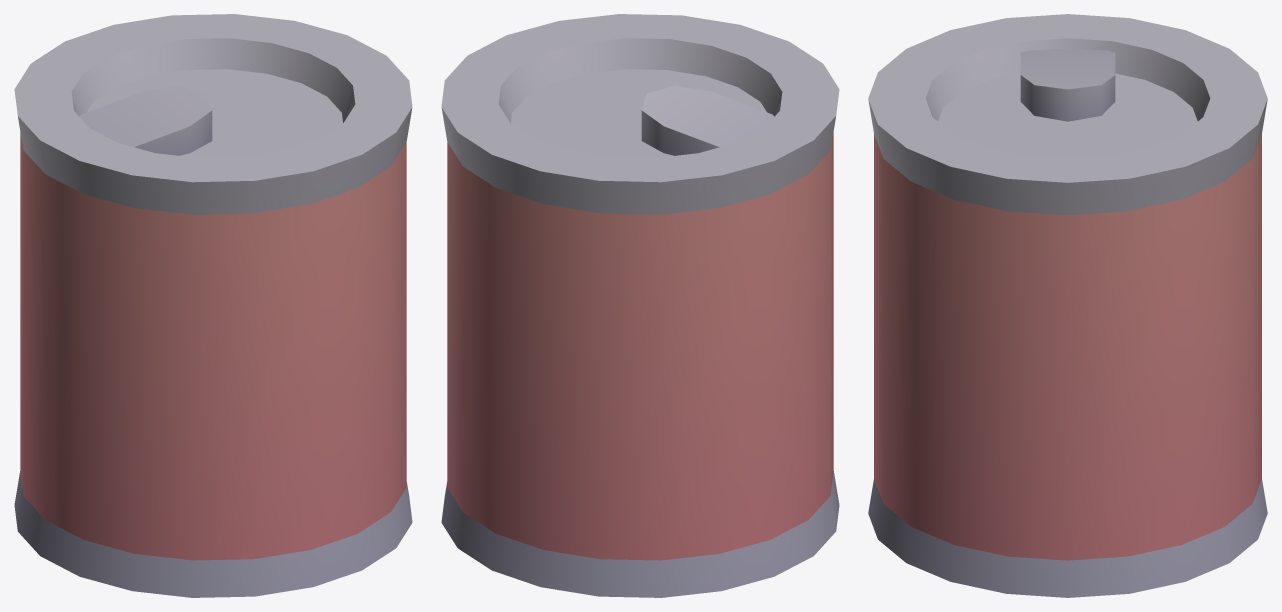
File: can.glb
3 renders of one model, left to right at view 1: azimuth 30°, elevation 25°; view 2: azimuth 150°, elevation 25°; view 3: azimuth 270°, elevation 25°, orthographic.
Parts seen in each view (by area): view 1: can; view 2: can; view 3: can.
Boxes of the visible parts, x1,y1,x2,y2 form: can: (14, 14, 412, 597); can: (441, 14, 839, 597); can: (868, 14, 1267, 597).
Bounding box in the file's own units: 0.1112 × 0.1293 × 0.1112.
